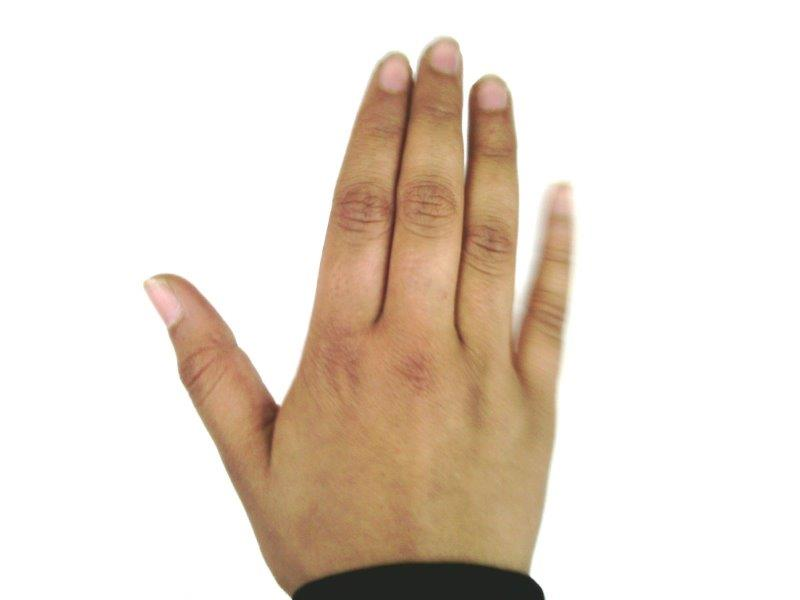hand: (145, 39, 574, 574)
